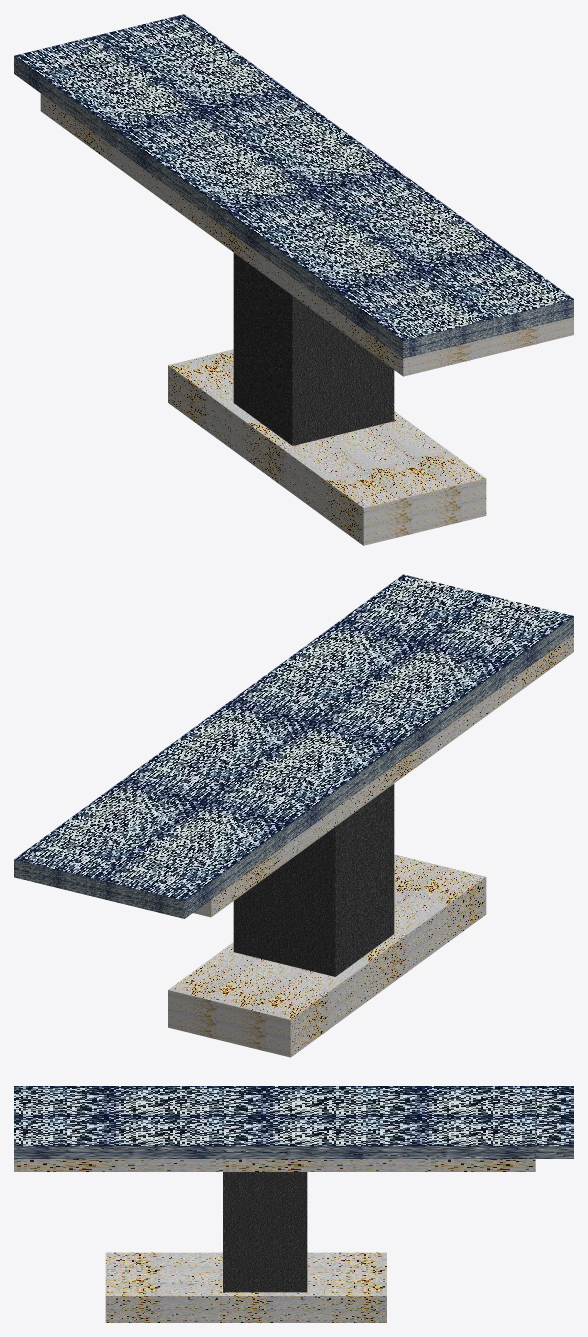
The model's file is clean_table_surgensi.glb.
3 renders of one model, top to bottom at view 1: azimuth 30°, elevation 25°; view 2: azimuth 150°, elevation 25°; view 3: azimuth 270°, elevation 25°, orthographic. The views are drawn at different scales.
Visible parts, largest first — view 1: Куб; view 2: Куб; view 3: Куб.
Boxes of the visible parts, x1=… form: Куб: x1=14, y1=14, x2=573, y2=545; Куб: x1=14, y1=574, x2=573, y2=1057; Куб: x1=14, y1=1086, x2=573, y2=1322.
Bounding box in the file's own units: 19.87 × 28.66 × 78.48.
Materials: 4 (4 with a texture image).
